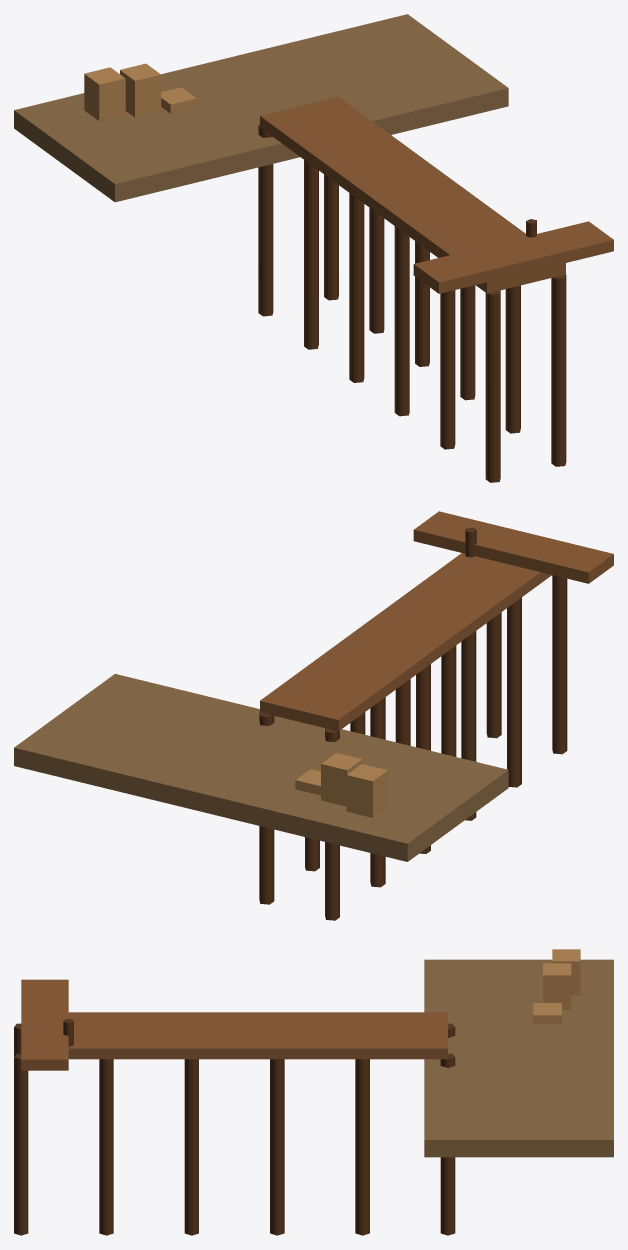
File: building_jeti.glb
The picture shows the model from 3 angles, top to bottom: view 1: azimuth 30°, elevation 25°; view 2: azimuth 150°, elevation 25°; view 3: azimuth 270°, elevation 25°; orthographic projection. The views are drawn at different scales.
Visible parts, largest first — view 1: building_jeti; view 2: building_jeti; view 3: building_jeti.
Part boxes in pixels (x1,y1,x2,y2): building_jeti: (14,14,613,482); building_jeti: (14,511,613,920); building_jeti: (14,949,613,1235).
Bounding box in the file's own units: 0.9 × 0.49 × 1.27.
